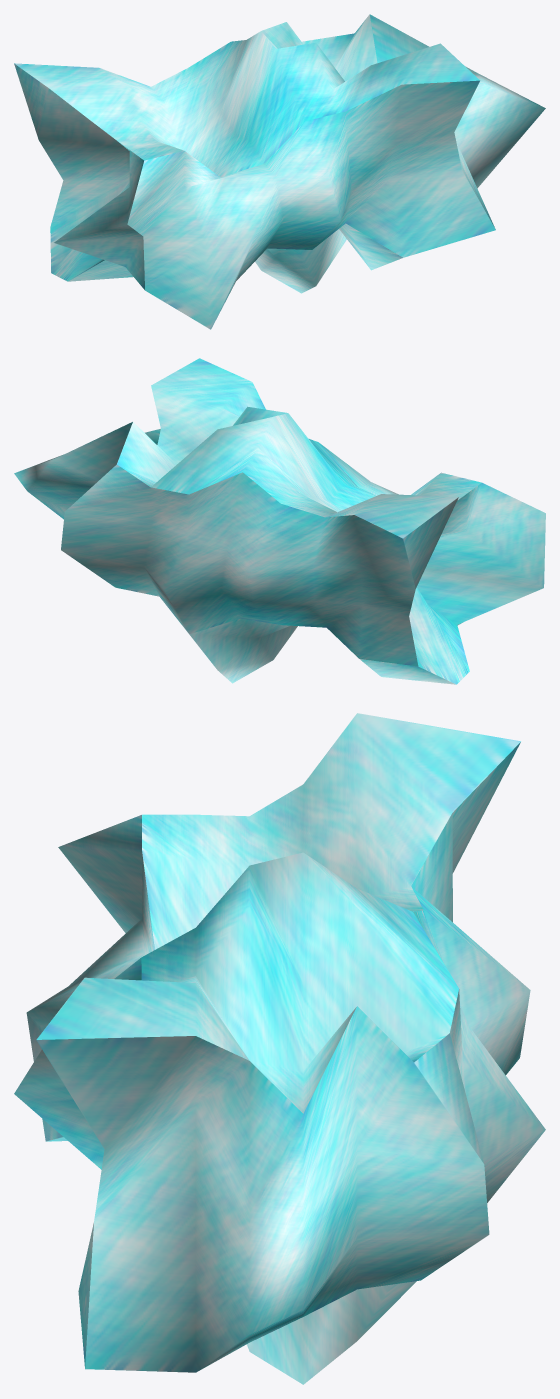
File: iceBullet.FBX
3 views of the same model, one above another, from view 1: azimuth 30°, elevation 25°; view 2: azimuth 150°, elevation 25°; view 3: azimuth 270°, elevation 25° (orthographic). The views are drawn at different scales.
Parts seen in each view (by area): view 1: Box001; view 2: Box001; view 3: Box001.
Part boxes in pixels (x1,y1,x2,y2): Box001: (14, 14, 545, 329); Box001: (14, 358, 545, 684); Box001: (14, 713, 545, 1384).
Bounding box in the file's own units: 4.39 × 2.19 × 2.25.
Materials: 1 (1 with a texture image).
